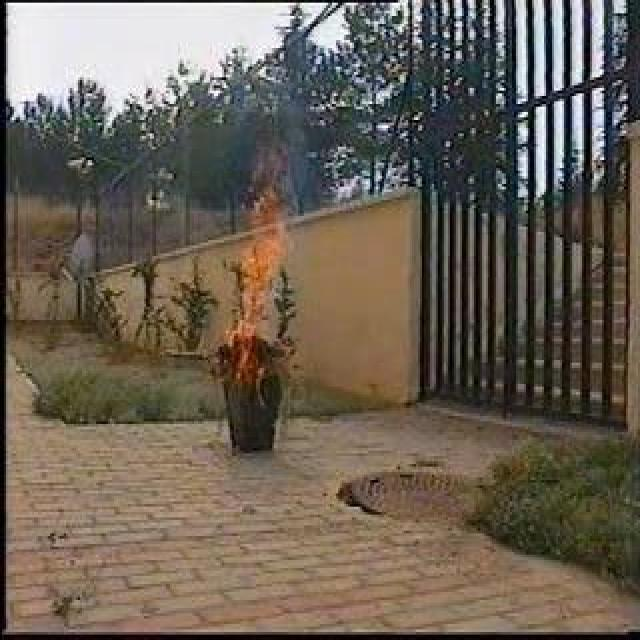fire: (224, 158, 288, 382)
smoke: (287, 127, 313, 217)
